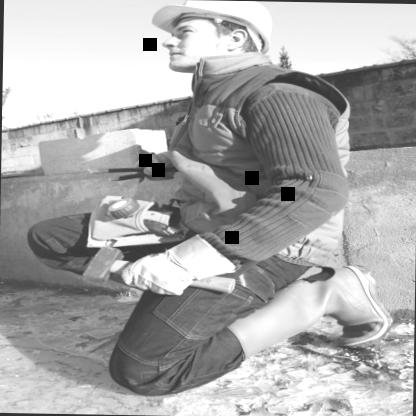helmet: (139, 0, 297, 73)
